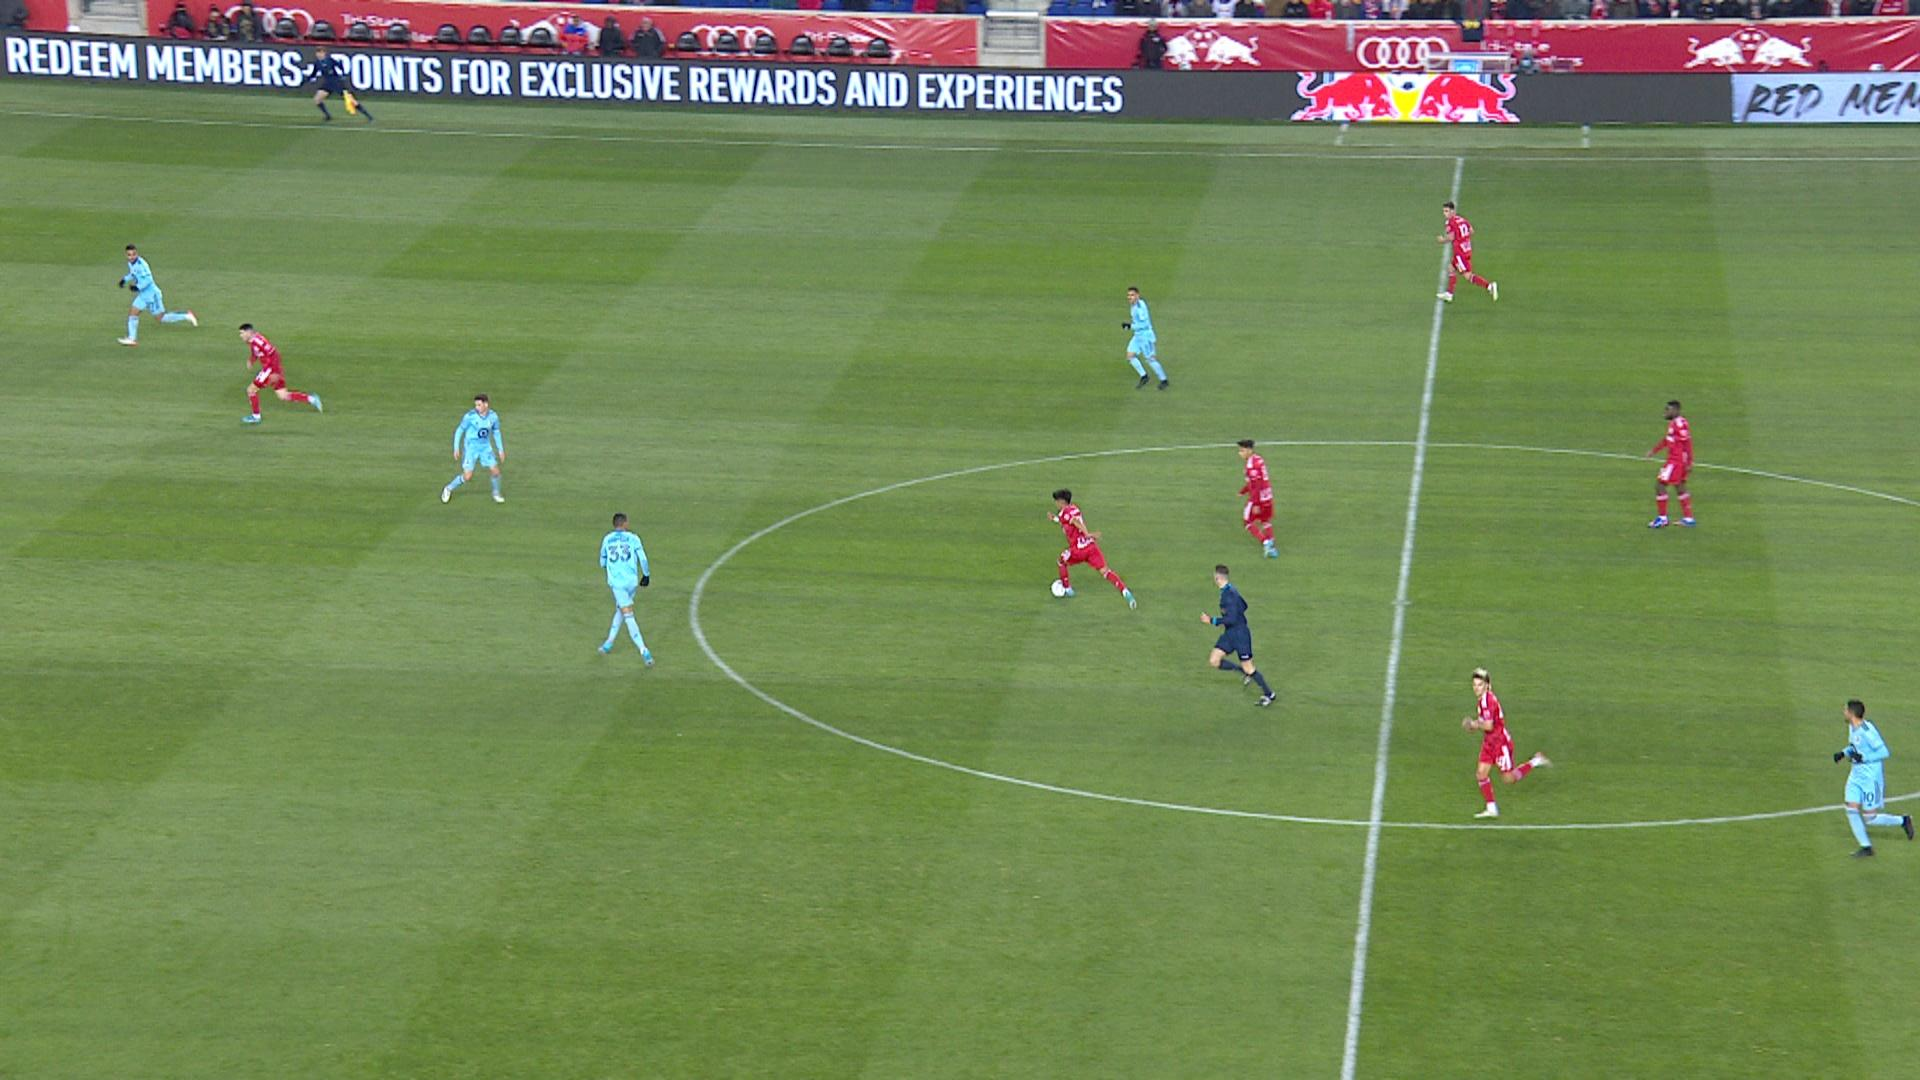football: (1048, 579, 1064, 596)
